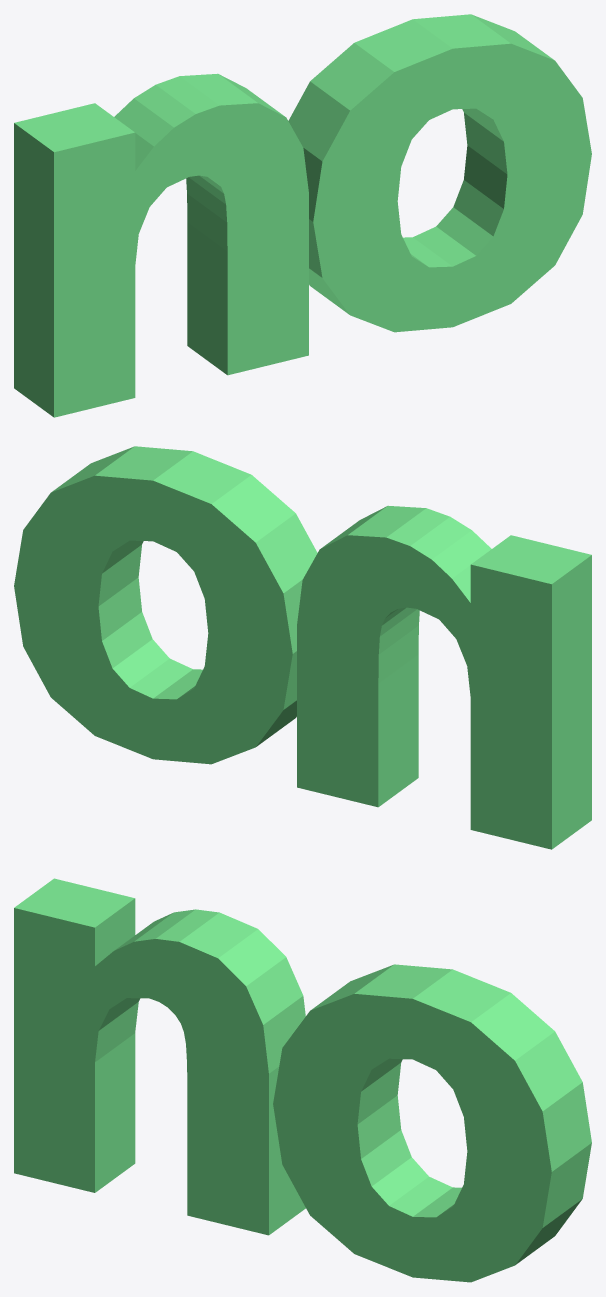
Rendered from suku_kecil_no.glb.
3 renders of one model, top to bottom at view 1: azimuth 30°, elevation 25°; view 2: azimuth 150°, elevation 25°; view 3: azimuth 330°, elevation 25°, orthographic.
Parts seen in each view (by area): view 1: geometry_0; view 2: geometry_0; view 3: geometry_0.
Part boxes in pixels (<box>): geometry_0: <box>14,14,591,417</box>; geometry_0: <box>14,446,591,849</box>; geometry_0: <box>14,878,591,1282</box>.
Size of the model in its own units: 11.6 by 5.74 by 1.5.
